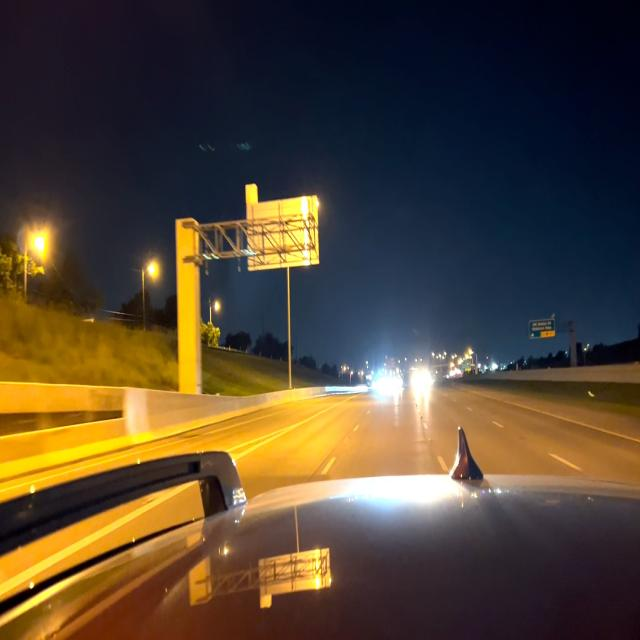back-of-sign: (245, 199, 318, 264), (243, 181, 259, 202)
